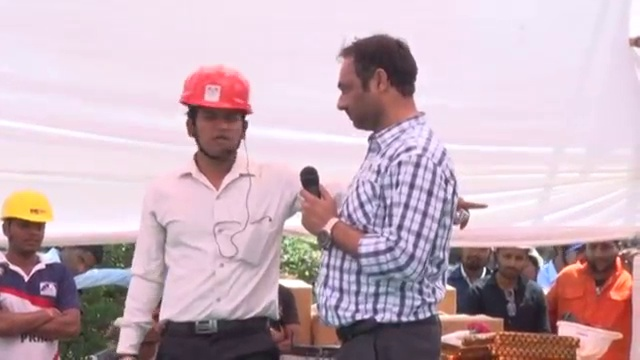helmet: (177, 66, 259, 117), (557, 320, 625, 360), (1, 190, 53, 228)
helmet_off: (334, 34, 420, 129), (56, 244, 102, 281), (492, 244, 530, 285), (582, 237, 622, 274), (459, 242, 493, 277)
helmet_on: (177, 67, 258, 176), (0, 192, 54, 255)
person: (111, 65, 310, 359), (297, 27, 462, 360), (0, 192, 80, 359), (556, 234, 637, 360), (464, 243, 548, 330), (49, 243, 135, 295), (446, 242, 493, 311)
